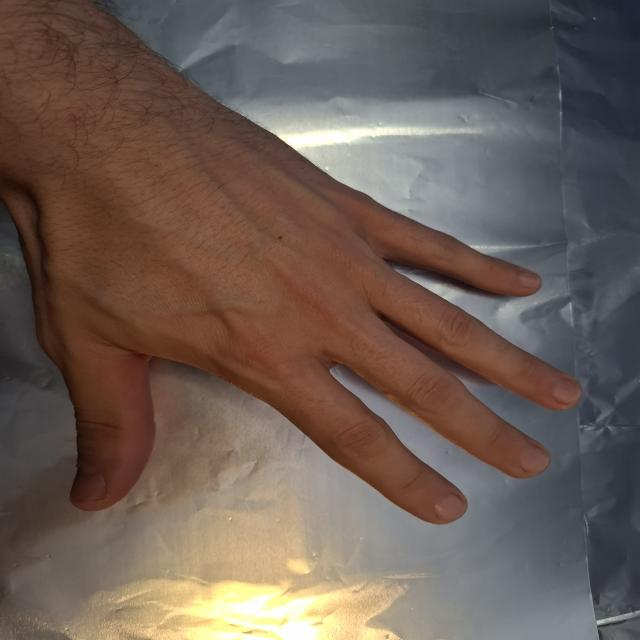glove_off: (0, 160, 586, 528)
